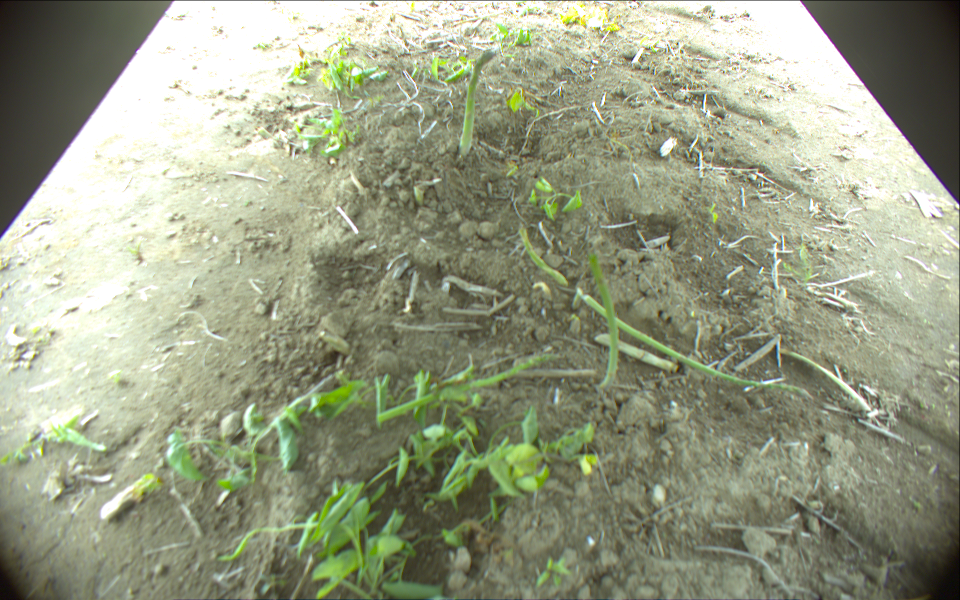aspa: (517, 229, 783, 389), (382, 353, 553, 425), (779, 347, 871, 410), (585, 250, 621, 392), (455, 49, 498, 155)
